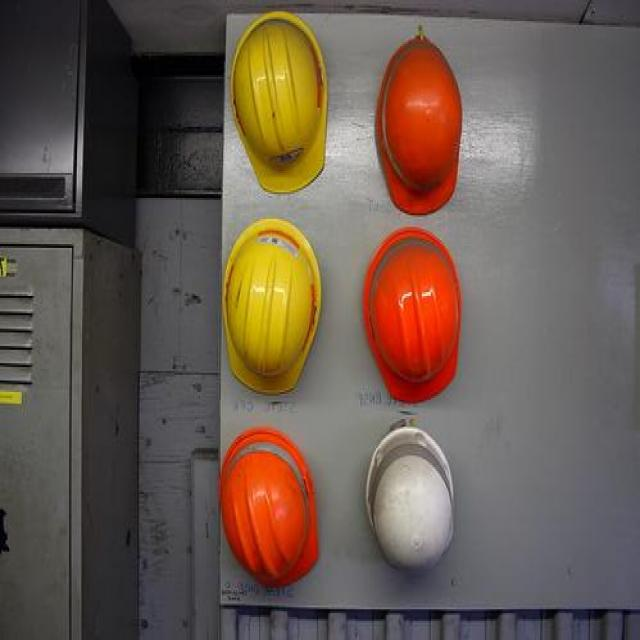Safety-Helmet: (216, 211, 327, 400), (363, 222, 466, 413), (227, 12, 332, 196), (372, 33, 464, 215), (220, 421, 320, 588), (363, 442, 457, 575)
